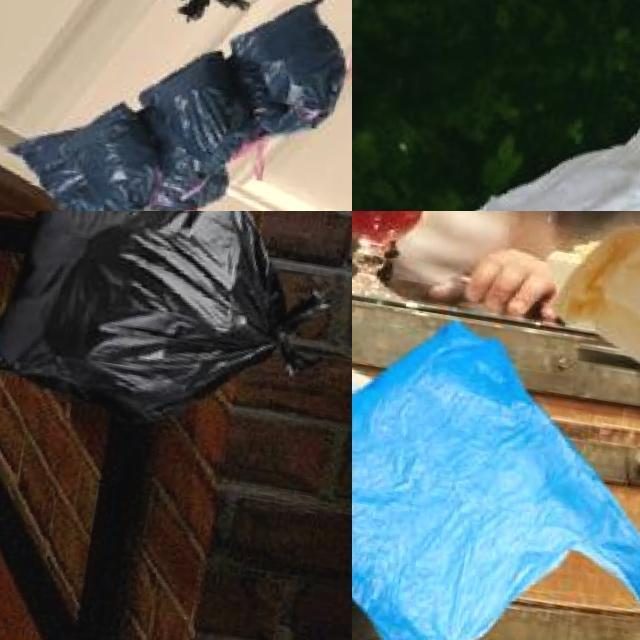waste: (352, 292, 640, 640), (0, 211, 332, 453), (419, 104, 640, 211), (132, 40, 265, 211), (16, 85, 169, 211), (222, 0, 352, 131)
